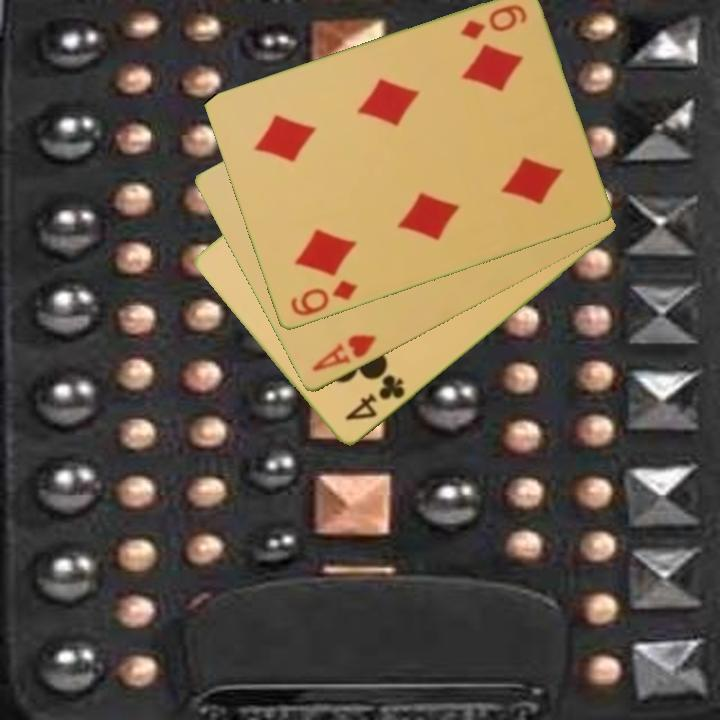4c: (341, 371, 408, 424)
6d: (286, 277, 361, 320), (456, 1, 530, 43)
Ah: (308, 331, 380, 375)
